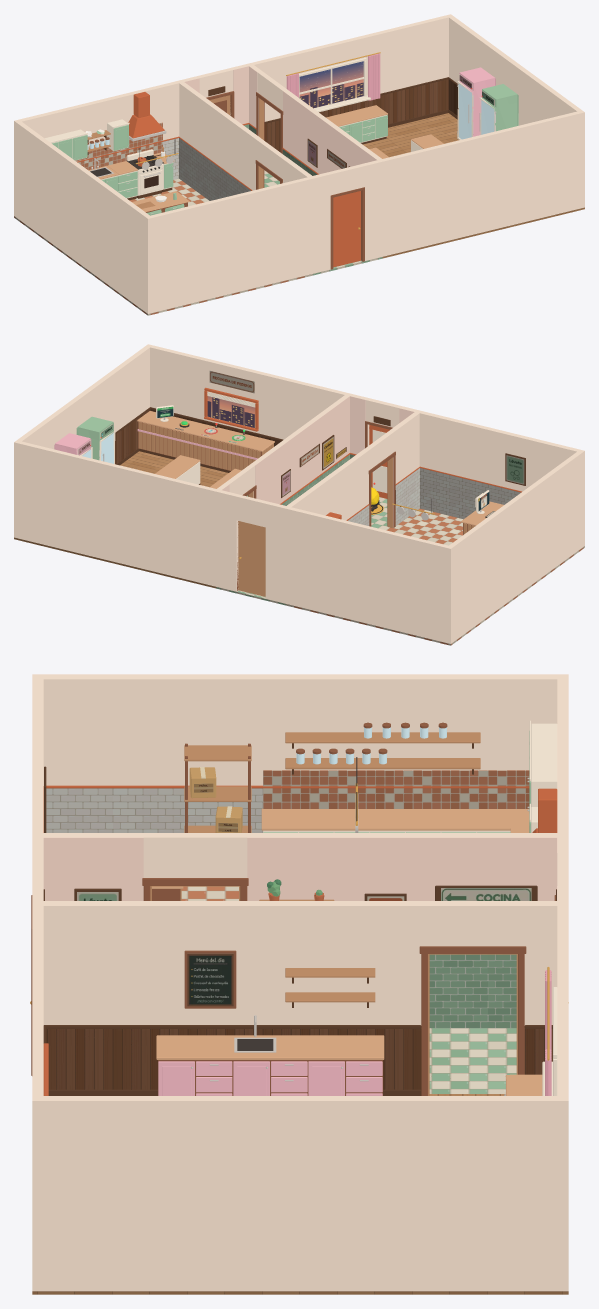
Rendered from deliveryrush-hero.glb.
3 renders of one model, top to bottom at view 1: azimuth 30°, elevation 25°; view 2: azimuth 150°, elevation 25°; view 3: azimuth 270°, elevation 25°, orthographic. The views are drawn at different scales.
Parts seen in each view (by area): view 1: ARCH_PassageCasing_Corridor_Delivery, FRIDGE_A_Desserts_Body, ARCH_Wainscot_ZonaA_Cocina, ARCH_Wainscot_ZonaCD_Cafeteria, FLOOR_ZonaCD_Cafeteria, ARCH_PickupWindow_Delivery, FLOOR_ZonaA_Cocina; view 2: ARCH_PassageCasing_Corridor_Delivery, ARCH_Wainscot_ZonaA_Cocina, ARCH_PickupWindow_Delivery, FLOOR_ZonaA_Cocina, FRIDGE_A_Desserts_Body, FLOOR_ZonaCD_Cafeteria, ARCH_Wainscot_ZonaCD_Cafeteria, FLOOR_ZonaB_Pasillo; view 3: ARCH_PassageCasing_Corridor_Delivery, ARCH_Wainscot_ZonaA_Cocina, ARCH_Wainscot_ZonaCD_Cafeteria, FLOOR_ZonaB_Pasillo, ARCH_PickupWindow_Delivery, FLOOR_ZonaCD_Cafeteria, FLOOR_ZonaA_Cocina.
Boxes of the visible parts, x1=… form: ARCH_PassageCasing_Corridor_Delivery: x1=14, y1=14, x2=584, y2=313; FRIDGE_A_Desserts_Body: x1=85, y1=67, x2=518, y2=215; ARCH_Wainscot_ZonaA_Cocina: x1=75, y1=122, x2=250, y2=200; ARCH_Wainscot_ZonaCD_Cafeteria: x1=264, y1=79, x2=458, y2=150; FLOOR_ZonaCD_Cafeteria: x1=264, y1=113, x2=584, y2=258; ARCH_PickupWindow_Delivery: x1=299, y1=61, x2=363, y2=168; FLOOR_ZonaA_Cocina: x1=14, y1=178, x2=312, y2=315; ARCH_PassageCasing_Corridor_Delivery: x1=14, y1=344, x2=584, y2=643; ARCH_Wainscot_ZonaA_Cocina: x1=348, y1=468, x2=520, y2=525; ARCH_PickupWindow_Delivery: x1=175, y1=371, x2=524, y2=516; FLOOR_ZonaA_Cocina: x1=286, y1=508, x2=584, y2=645; FRIDGE_A_Desserts_Body: x1=54, y1=416, x2=379, y2=513; FLOOR_ZonaCD_Cafeteria: x1=14, y1=451, x2=228, y2=588; ARCH_Wainscot_ZonaCD_Cafeteria: x1=115, y1=409, x2=281, y2=464; FLOOR_ZonaB_Pasillo: x1=216, y1=497, x2=389, y2=605; ARCH_PassageCasing_Corridor_Delivery: x1=30, y1=674, x2=568, y2=1291; ARCH_Wainscot_ZonaA_Cocina: x1=46, y1=770, x2=529, y2=832; ARCH_Wainscot_ZonaCD_Cafeteria: x1=45, y1=1028, x2=552, y2=1089; FLOOR_ZonaB_Pasillo: x1=429, y1=1028, x2=516, y2=1093; ARCH_PickupWindow_Delivery: x1=77, y1=783, x2=531, y2=1006; FLOOR_ZonaCD_Cafeteria: x1=32, y1=1094, x2=568, y2=1294; FLOOR_ZonaA_Cocina: x1=181, y1=886, x2=238, y2=900.
Size of the model in its own units: 0.5604 by 0.1187 by 0.2993.
Materials: 12 (12 with a texture image).
